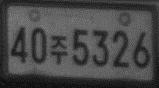0: (30, 26, 47, 64)
2: (112, 30, 131, 68)
3: (92, 28, 110, 68)
4: (9, 26, 28, 64)
5: (71, 28, 90, 67)
6: (132, 30, 151, 68)
주: (49, 34, 68, 65)
